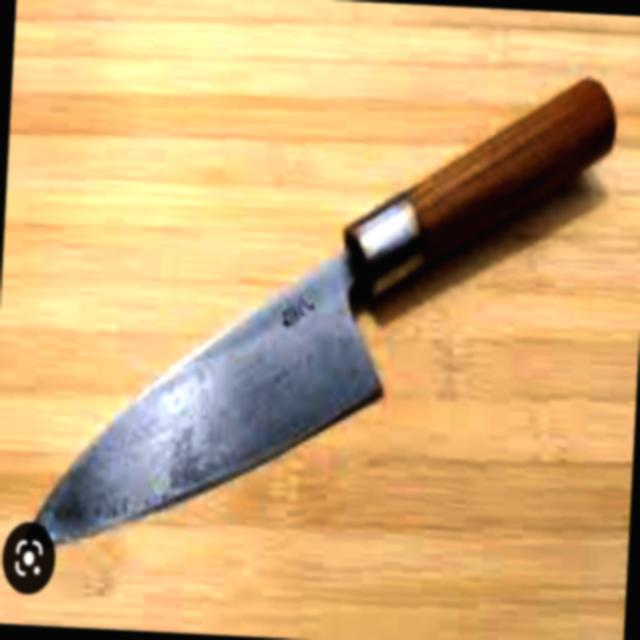knife: (23, 58, 640, 575)
